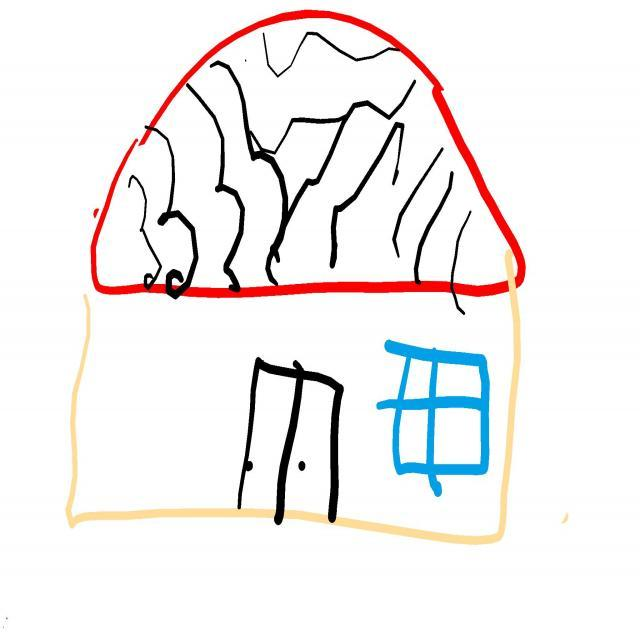door: (237, 358, 344, 525)
house: (66, 9, 526, 544)
roof: (91, 10, 526, 299)
wall: (89, 283, 507, 543)
window: (378, 341, 491, 497)
